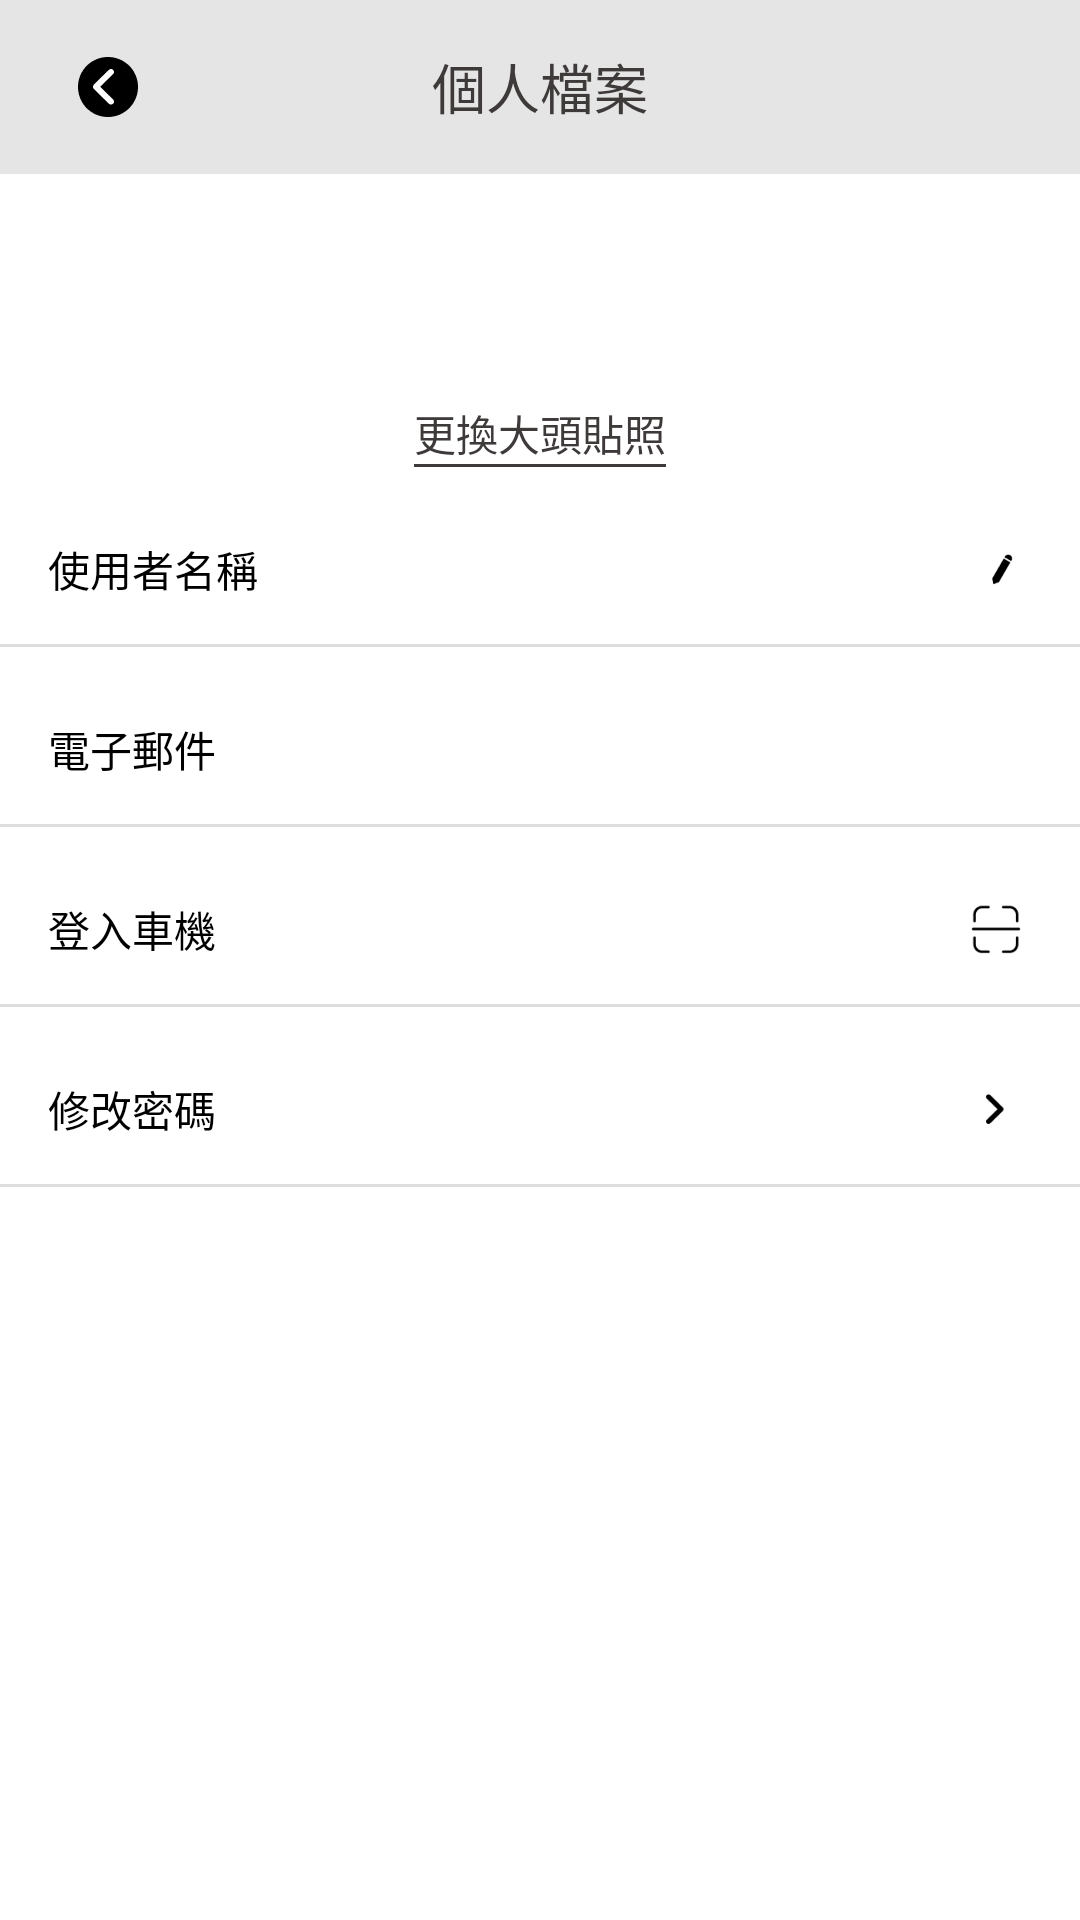

Icon bounding boxes for this 1080x1920 phone screenshot, format [left=x1, top=y1, right=x2, bottom=y2]:
back: [left=78, top=57, right=138, bottom=117]
home scan: [left=972, top=905, right=1020, bottom=953]
right: [left=986, top=1094, right=1004, bottom=1124]
sheet edit: [left=992, top=554, right=1013, bottom=584]
